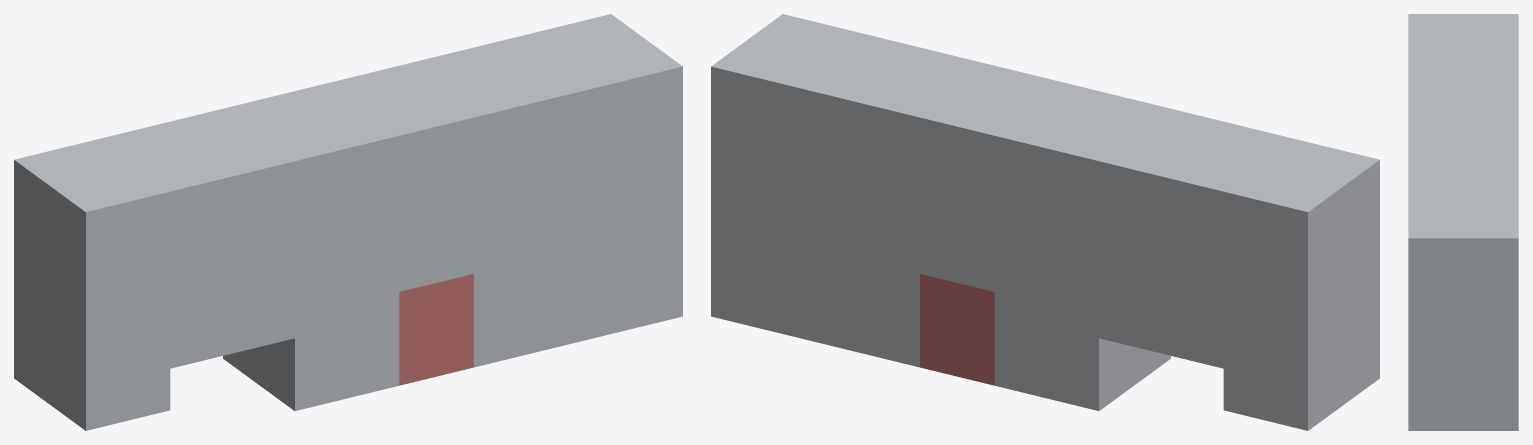
The model's file is step_04.glb.
The picture shows the model from 3 angles, left to right: view 1: azimuth 30°, elevation 25°; view 2: azimuth 150°, elevation 25°; view 3: azimuth 270°, elevation 25°; orthographic projection. The views are drawn at different scales.
Visible parts, largest first — view 1: part__slotted bar (four arrangements), removed__slotted bar (four arrangements); view 2: part__slotted bar (four arrangements), removed__slotted bar (four arrangements); view 3: part__slotted bar (four arrangements).
Part boxes in pixels (<box>): part__slotted bar (four arrangements): <box>14,14,682,430</box>; removed__slotted bar (four arrangements): <box>399,274,473,385</box>; part__slotted bar (four arrangements): <box>711,14,1379,430</box>; removed__slotted bar (four arrangements): <box>920,274,994,385</box>; part__slotted bar (four arrangements): <box>1408,14,1518,430</box>.
Size of the model in its own units: 120 by 48 by 25.
